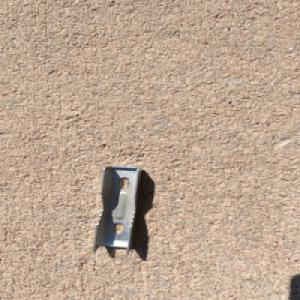ClampPart: (88, 164, 144, 256)
